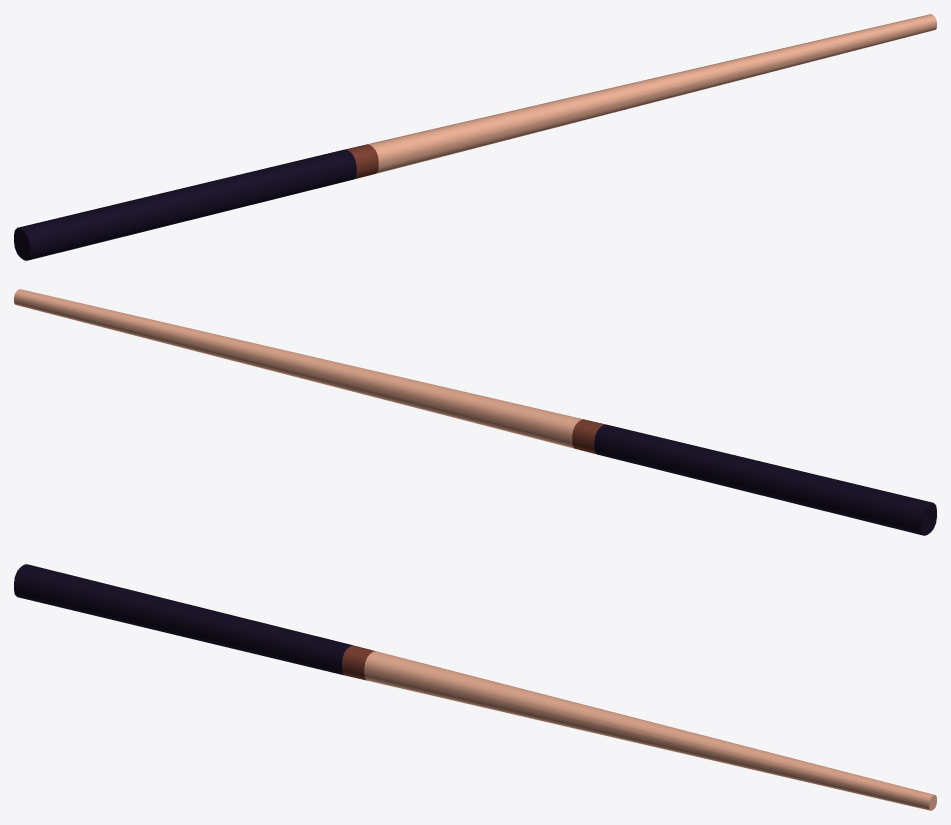
The model's file is BilliardsStick.fbx.
3 views of the same model, one above another, from view 1: azimuth 30°, elevation 25°; view 2: azimuth 150°, elevation 25°; view 3: azimuth 330°, elevation 25° (orthographic).
Visible parts, largest first — view 1: Cube; view 2: Cube; view 3: Cube.
Boxes of the visible parts, x1=… form: Cube: x1=14, y1=14, x2=936, y2=260; Cube: x1=14, y1=289, x2=936, y2=535; Cube: x1=14, y1=564, x2=936, y2=810.
Bounding box in the file's own units: 511 × 15.51 × 15.51.
